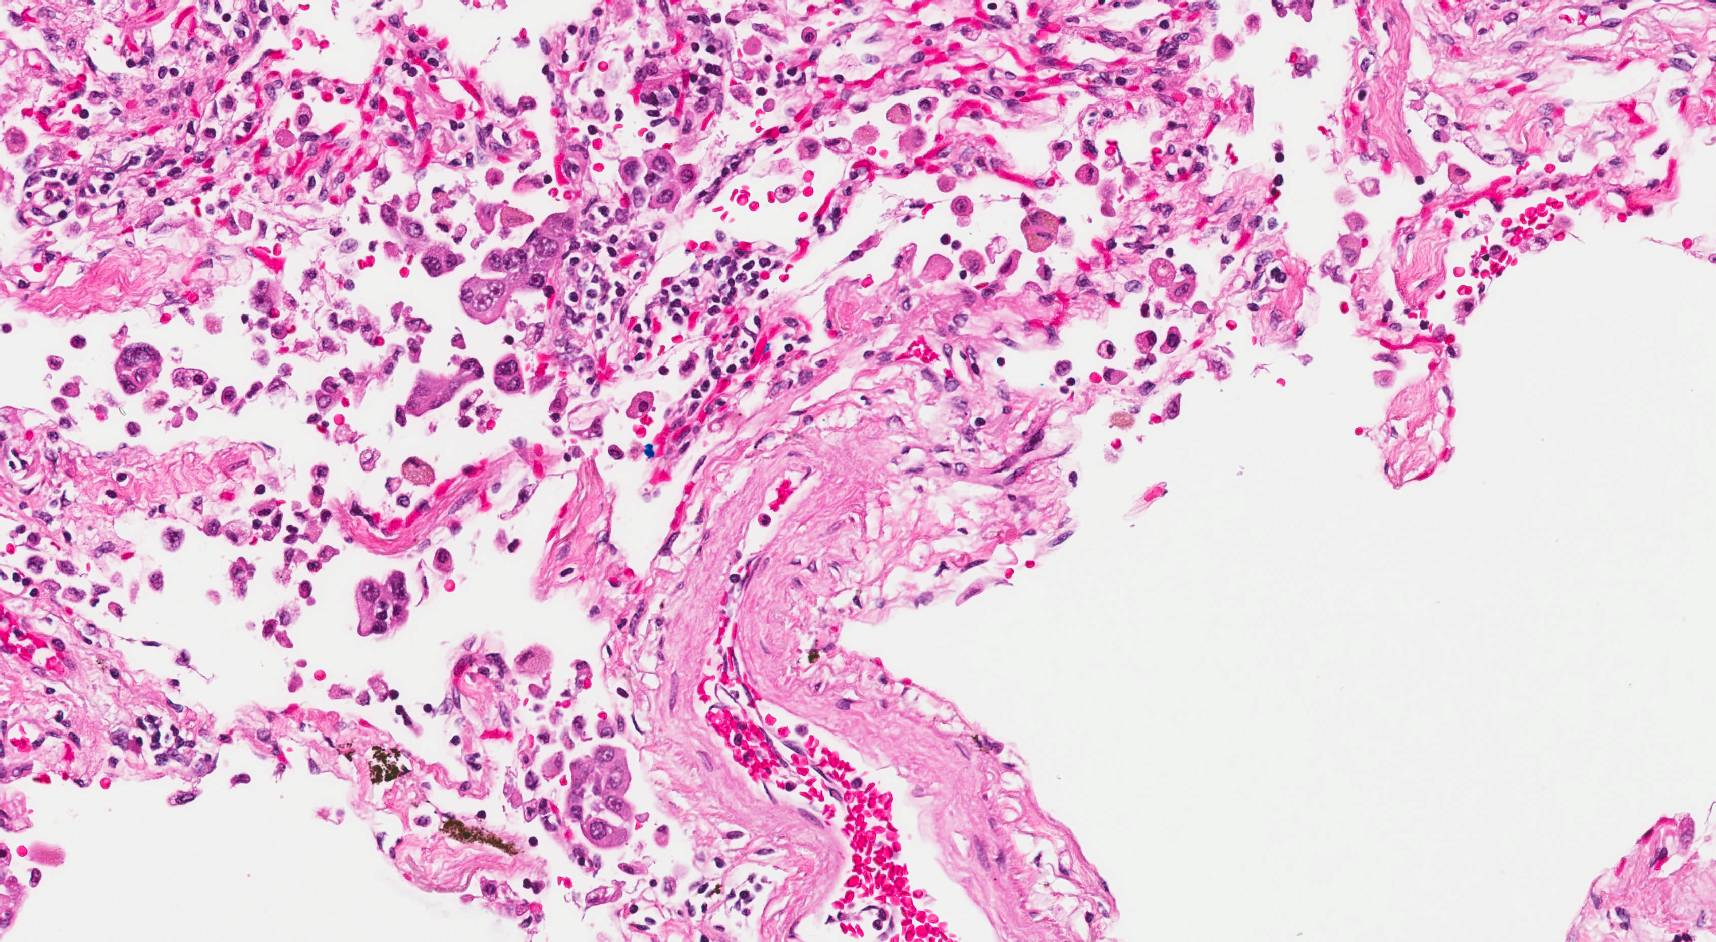stas: (566, 746, 635, 846), (394, 357, 488, 422), (354, 567, 412, 638), (113, 340, 162, 394), (421, 244, 465, 277), (493, 352, 525, 395)
